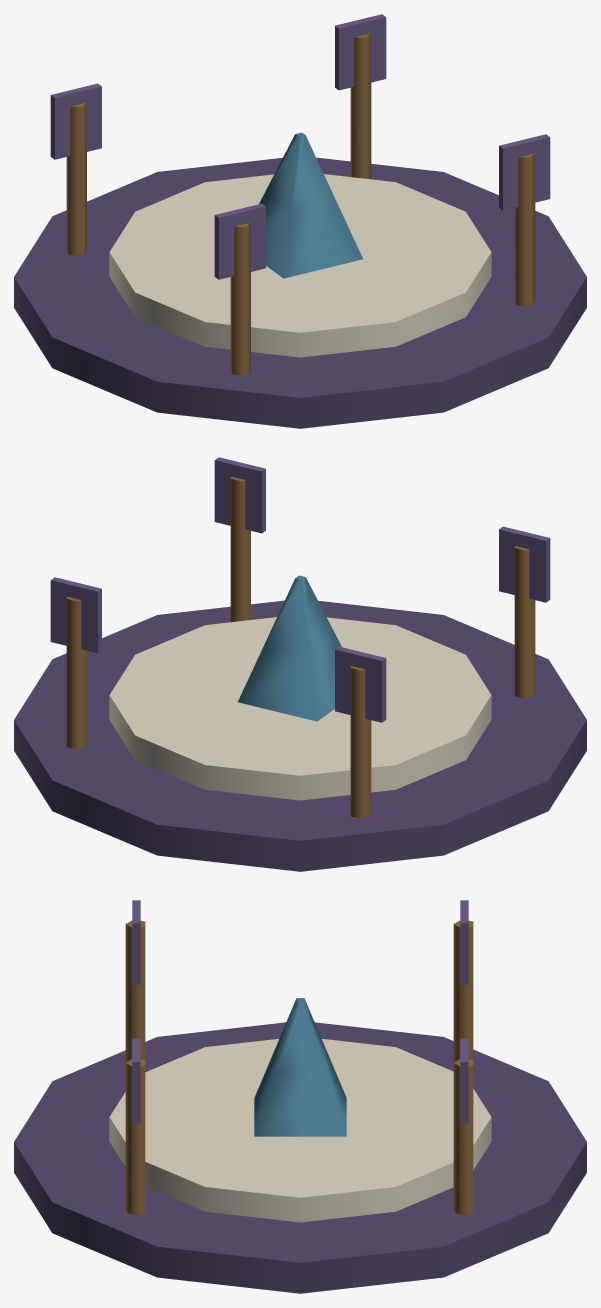
Rendered from fa_tan_qu.glb.
3 renders of one model, top to bottom at view 1: azimuth 30°, elevation 25°; view 2: azimuth 150°, elevation 25°; view 3: azimuth 270°, elevation 25°, orthographic.
Visible parts, largest first — view 1: _MeshInstance3D_160, _MeshInstance3D_161, _MeshInstance3D_170, _MeshInstance3D_162, _MeshInstance3D_164, _MeshInstance3D_166, _MeshInstance3D_168, _MeshInstance3D_163, _MeshInstance3D_167, _MeshInstance3D_165, _MeshInstance3D_169; view 2: _MeshInstance3D_160, _MeshInstance3D_161, _MeshInstance3D_170, _MeshInstance3D_164, _MeshInstance3D_166, _MeshInstance3D_168, _MeshInstance3D_162, _MeshInstance3D_165, _MeshInstance3D_169, _MeshInstance3D_163, _MeshInstance3D_167; view 3: _MeshInstance3D_160, _MeshInstance3D_161, _MeshInstance3D_170, _MeshInstance3D_162, _MeshInstance3D_168, _MeshInstance3D_166, _MeshInstance3D_164, _MeshInstance3D_163, _MeshInstance3D_169, _MeshInstance3D_165, _MeshInstance3D_167.
Part boxes in pixels (x1=…): _MeshInstance3D_160: x1=14, y1=157, x2=586, y2=428; _MeshInstance3D_161: x1=109, y1=174, x2=491, y2=357; _MeshInstance3D_170: x1=259, y1=132, x2=362, y2=278; _MeshInstance3D_162: x1=514, y1=153, x2=535, y2=306; _MeshInstance3D_164: x1=230, y1=222, x2=250, y2=375; _MeshInstance3D_166: x1=66, y1=102, x2=86, y2=255; _MeshInstance3D_168: x1=350, y1=33, x2=371, y2=179; _MeshInstance3D_163: x1=499, y1=134, x2=550, y2=210; _MeshInstance3D_167: x1=50, y1=83, x2=101, y2=159; _MeshInstance3D_165: x1=214, y1=203, x2=265, y2=279; _MeshInstance3D_169: x1=335, y1=14, x2=386, y2=90; _MeshInstance3D_160: x1=14, y1=600, x2=586, y2=871; _MeshInstance3D_161: x1=109, y1=617, x2=491, y2=800; _MeshInstance3D_170: x1=238, y1=575, x2=341, y2=721; _MeshInstance3D_164: x1=514, y1=546, x2=535, y2=698; _MeshInstance3D_166: x1=350, y1=666, x2=371, y2=818; _MeshInstance3D_168: x1=66, y1=596, x2=86, y2=749; _MeshInstance3D_162: x1=230, y1=476, x2=250, y2=622; _MeshInstance3D_165: x1=499, y1=526, x2=550, y2=602; _MeshInstance3D_169: x1=50, y1=577, x2=101, y2=653; _MeshInstance3D_163: x1=214, y1=457, x2=265, y2=533; _MeshInstance3D_167: x1=335, y1=646, x2=386, y2=722; _MeshInstance3D_160: x1=14, y1=1022, x2=586, y2=1293; _MeshInstance3D_161: x1=109, y1=1039, x2=491, y2=1222; _MeshInstance3D_170: x1=254, y1=998, x2=346, y2=1136; _MeshInstance3D_162: x1=125, y1=1059, x2=145, y2=1215; _MeshInstance3D_168: x1=453, y1=1059, x2=473, y2=1215; _MeshInstance3D_166: x1=453, y1=920, x2=473, y2=1062; _MeshInstance3D_164: x1=125, y1=920, x2=145, y2=1062; _MeshInstance3D_163: x1=132, y1=1038, x2=140, y2=1123; _MeshInstance3D_169: x1=460, y1=1038, x2=468, y2=1123; _MeshInstance3D_165: x1=132, y1=900, x2=140, y2=984; _MeshInstance3D_167: x1=460, y1=900, x2=468, y2=984.
Bounding box in the file's own units: 0.84 × 0.31 × 0.84.
